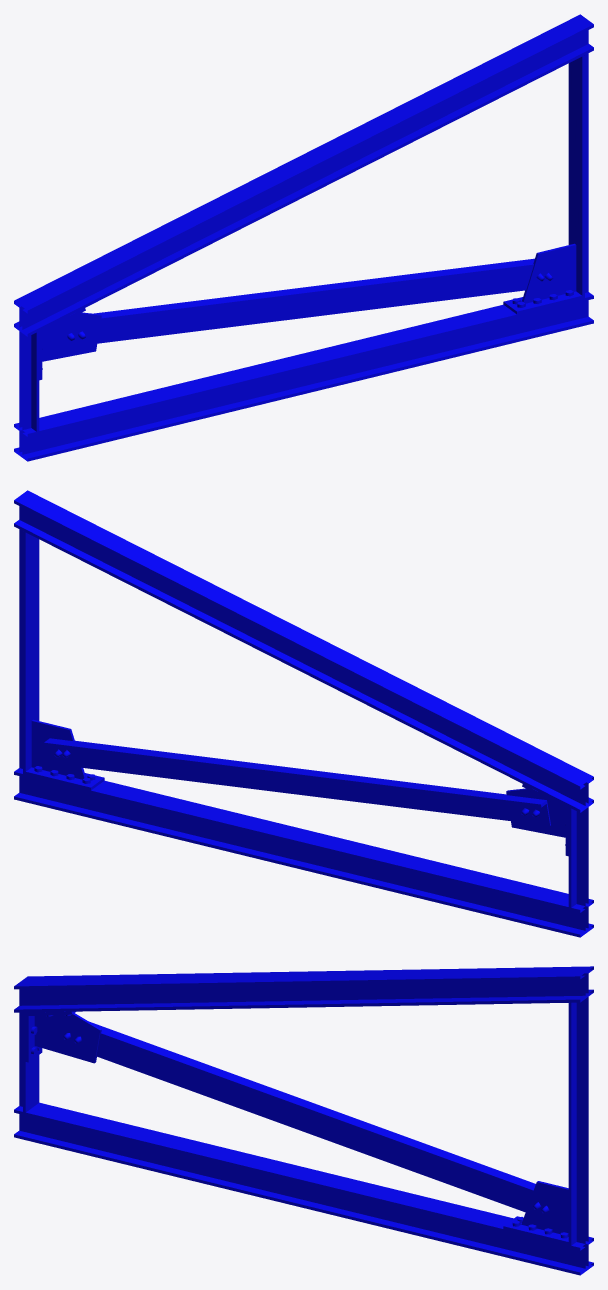
The model's file is Structure02_Roof02.fbx.
3 renders of one model, top to bottom at view 1: azimuth 30°, elevation 25°; view 2: azimuth 150°, elevation 25°; view 3: azimuth 330°, elevation 25°, orthographic.
Visible parts, largest first — view 1: Structure02_Roof02_LOD0; view 2: Structure02_Roof02_LOD0; view 3: Structure02_Roof02_LOD0.
Boxes of the visible parts, bbox=[...] form: Structure02_Roof02_LOD0: bbox=[14, 14, 593, 461]; Structure02_Roof02_LOD0: bbox=[14, 490, 593, 937]; Structure02_Roof02_LOD0: bbox=[14, 966, 593, 1275].
Size of what is drawn, in the model's own units: 300 by 151 by 12.5.
